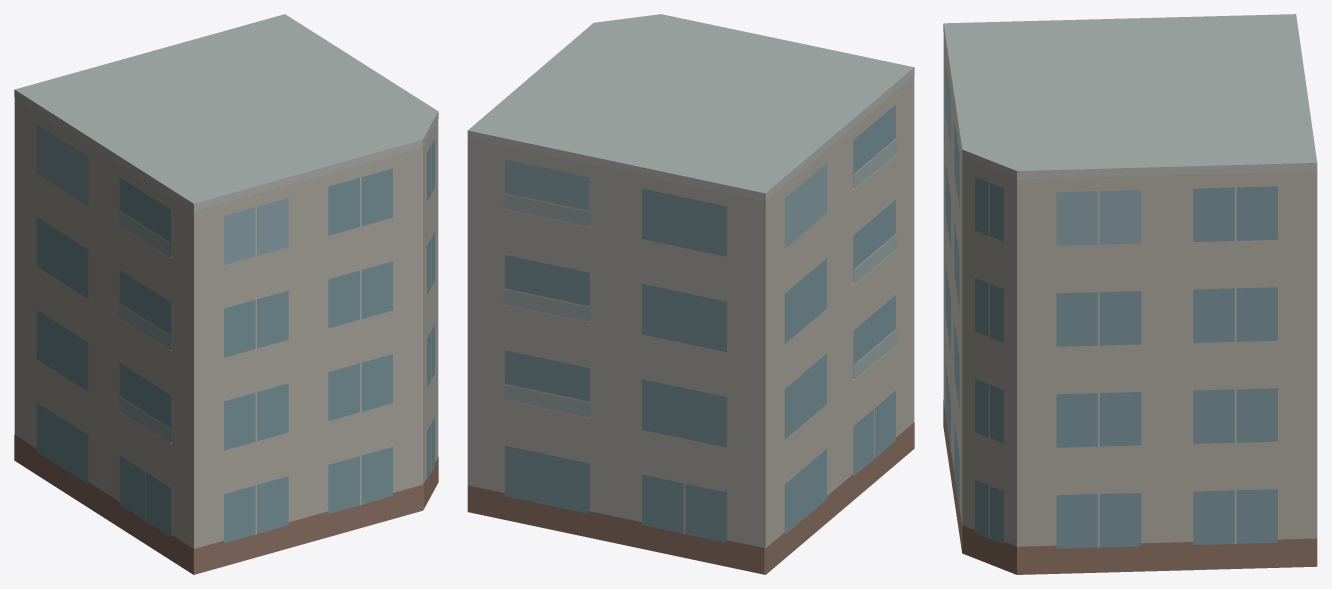
File: survey-upis-32702513.glb
The picture shows the model from 3 angles, left to right: view 1: azimuth 30°, elevation 25°; view 2: azimuth 150°, elevation 25°; view 3: azimuth 270°, elevation 25°; orthographic projection. The views are drawn at different scales.
Visible parts, largest first — view 1: survey-upis-32702513.tmp; view 2: survey-upis-32702513.tmp; view 3: survey-upis-32702513.tmp.
Boxes of the visible parts, x1,y1,x2,y2 form: survey-upis-32702513.tmp: (14, 14, 438, 574); survey-upis-32702513.tmp: (467, 14, 914, 574); survey-upis-32702513.tmp: (943, 14, 1317, 574).
Bounding box in the file's own units: 9.77 × 11.7 × 9.82.
